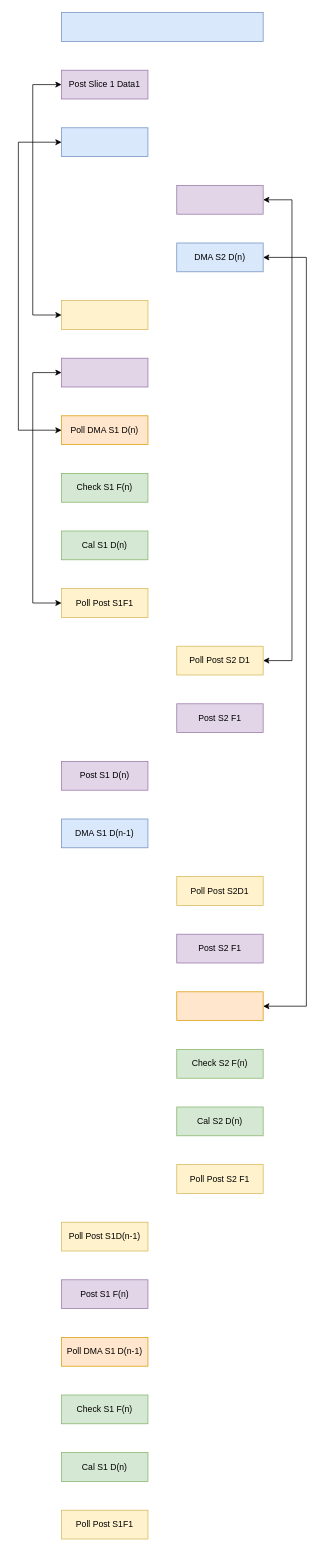
Image size: 325x1552. Some labels were removed from this diagram. The shapes that lost their labels are listed below. From the top down, each one's centre as x and y in pixels, then its label:
At point 162,26: "DC".
At point 104,142: "DMA S1 D(n)".
At point 219,199: "Post S2 D1".
At point 104,314: "Poll Post S1D1".
At point 104,372: "Post S1 F1".
At point 219,1006: "Poll DMA S2 D(n)".
